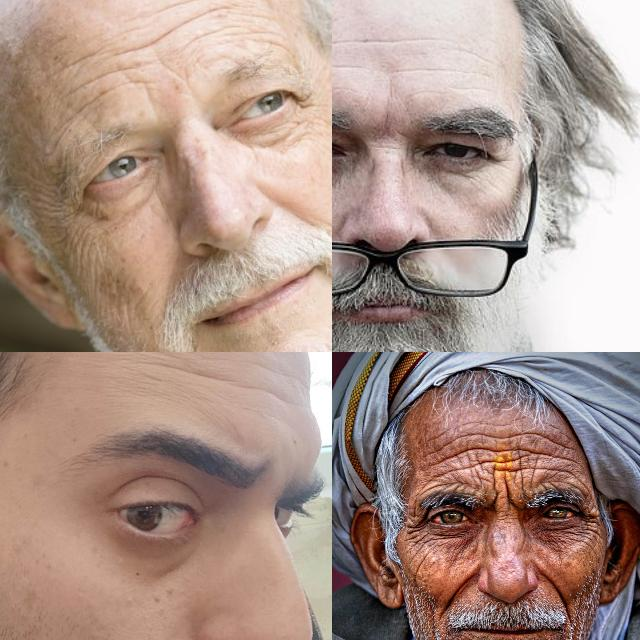crows_feet: (52, 198, 98, 254), (298, 84, 330, 130), (578, 508, 602, 540), (404, 513, 430, 541)
forehead: (156, 0, 262, 48), (68, 55, 154, 107), (155, 352, 225, 399), (332, 27, 432, 56), (238, 376, 296, 412), (535, 460, 585, 492), (409, 58, 471, 82), (496, 429, 536, 459), (540, 427, 572, 463), (429, 468, 467, 494), (244, 359, 286, 379), (429, 428, 455, 460), (464, 432, 491, 461), (485, 466, 519, 489)
frown_line: (488, 485, 520, 517)
gummy_smile: (542, 571, 572, 609), (442, 573, 472, 611)
masseter: (406, 552, 430, 582)
